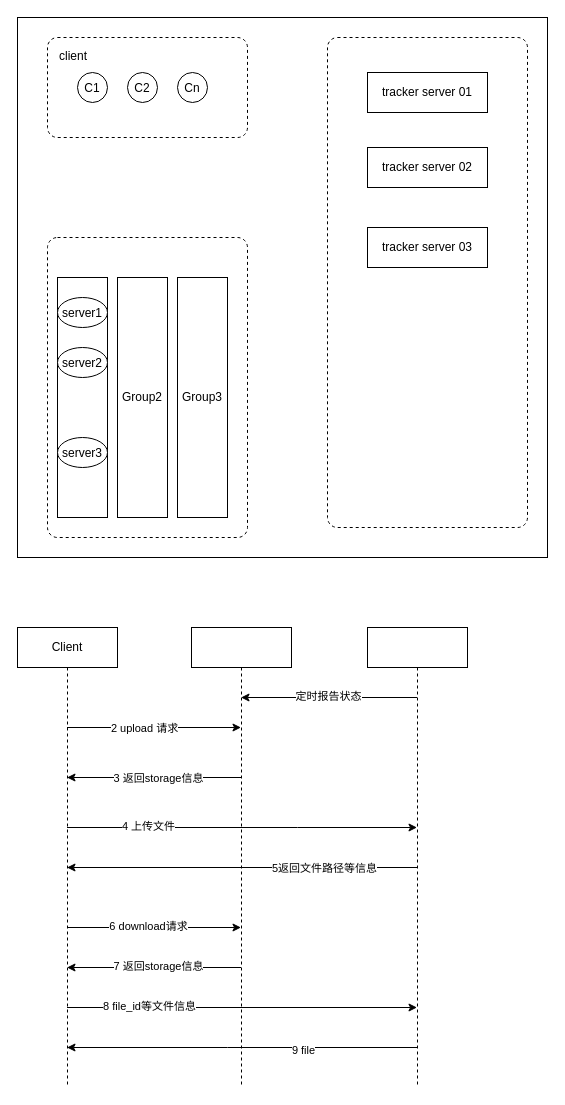
Image size: 565x1105. Some labels were removed from this diagram. The box of each missing label's shape, as (x1, y1, x2, y2) in pixels:
FastDFS: (16, 16, 548, 558)
Group1: (56, 276, 108, 518)
Storage: (366, 626, 468, 1088)
storage 集群: (46, 236, 248, 538)
Tracker: (190, 626, 292, 1088)
tracker 集群: (326, 36, 528, 528)
